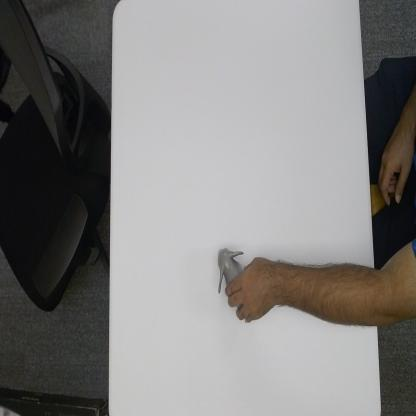Arm: (274, 261, 379, 327)
Elephant: (214, 246, 244, 293)
Hand: (224, 255, 274, 324)
